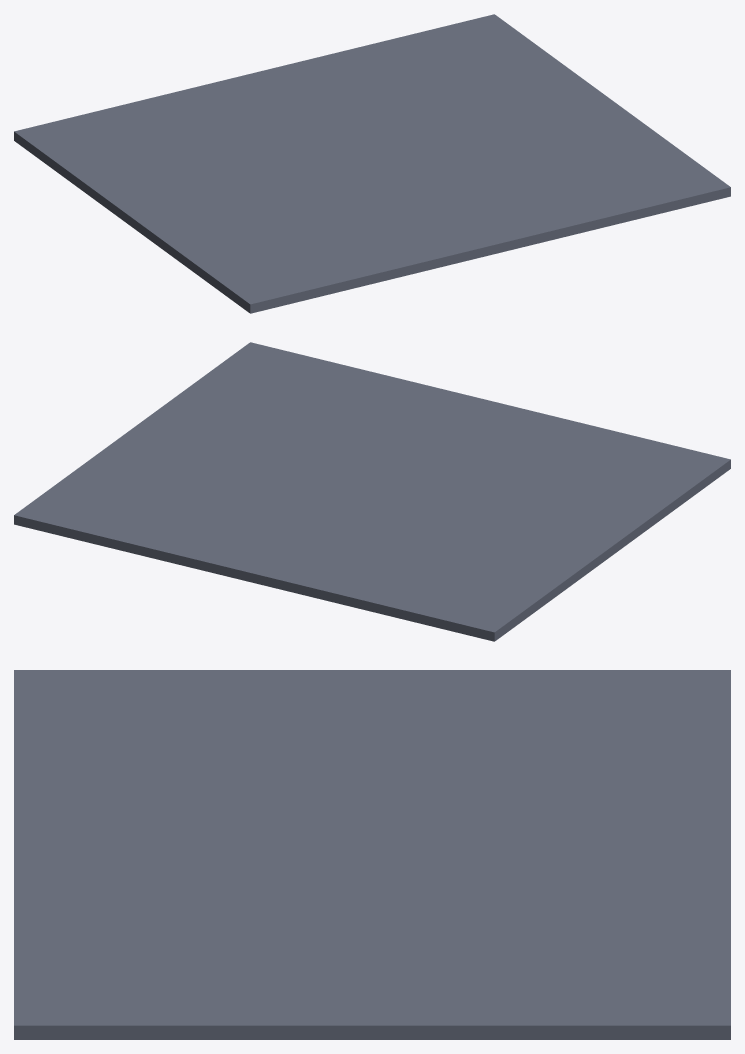
The model's file is archive_ceiling.glb.
The picture shows the model from 3 angles, top to bottom: view 1: azimuth 30°, elevation 25°; view 2: azimuth 150°, elevation 25°; view 3: azimuth 270°, elevation 25°; orthographic projection. The views are drawn at different scales.
Parts seen in each view (by area): view 1: vault; view 2: vault; view 3: vault.
Part boxes in pixels (bbox=[...]): vault: bbox=[14, 14, 730, 313]; vault: bbox=[14, 342, 730, 641]; vault: bbox=[14, 670, 730, 1039].
Bounding box in the file's own units: 54 × 2.95 × 46.
